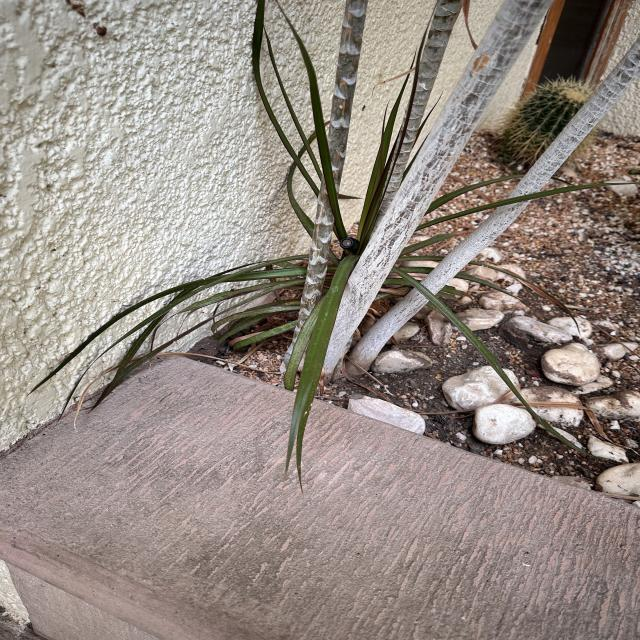hidden camera: (340, 238, 355, 249)
